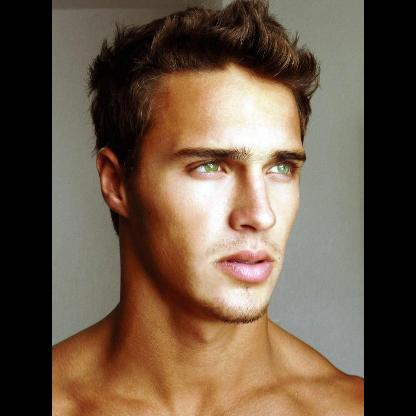Male: (98, 64, 306, 322)
